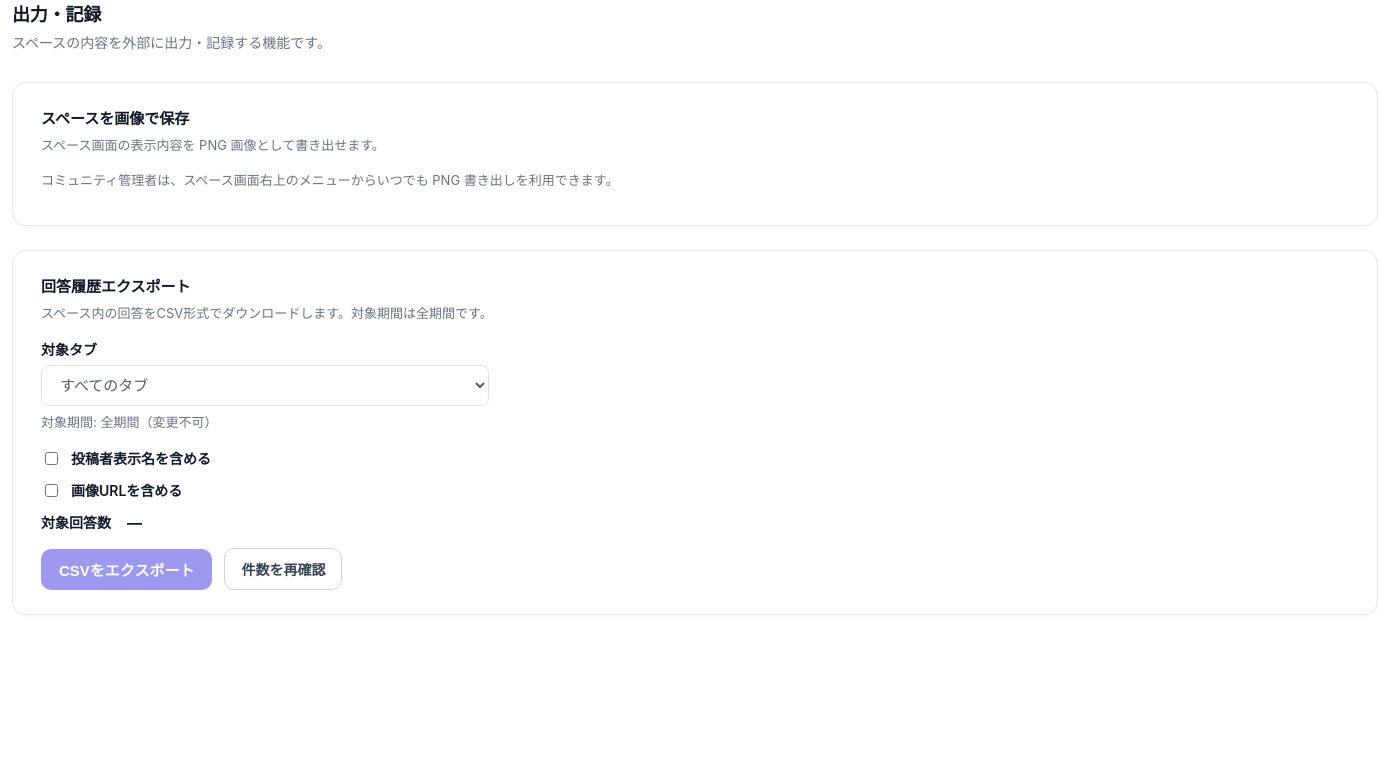
Test: ExportRecordTab › shows opt-in warnings when toggles are enabled
Click the checkbox labelled "投稿者表示名を含める" at (52, 458), box [45,452,58,464]
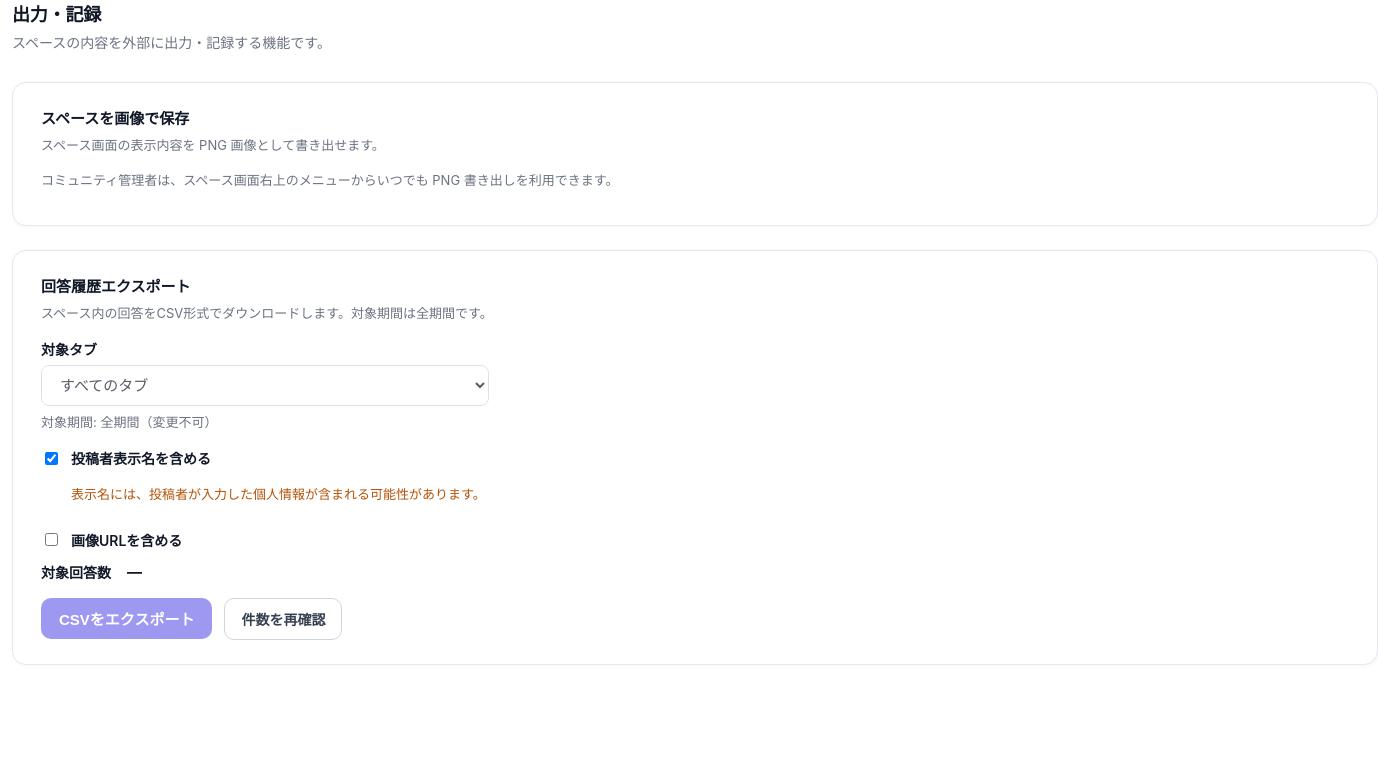
Click the checkbox labelled "画像URLを含める" at (52, 540), box [45,533,58,546]
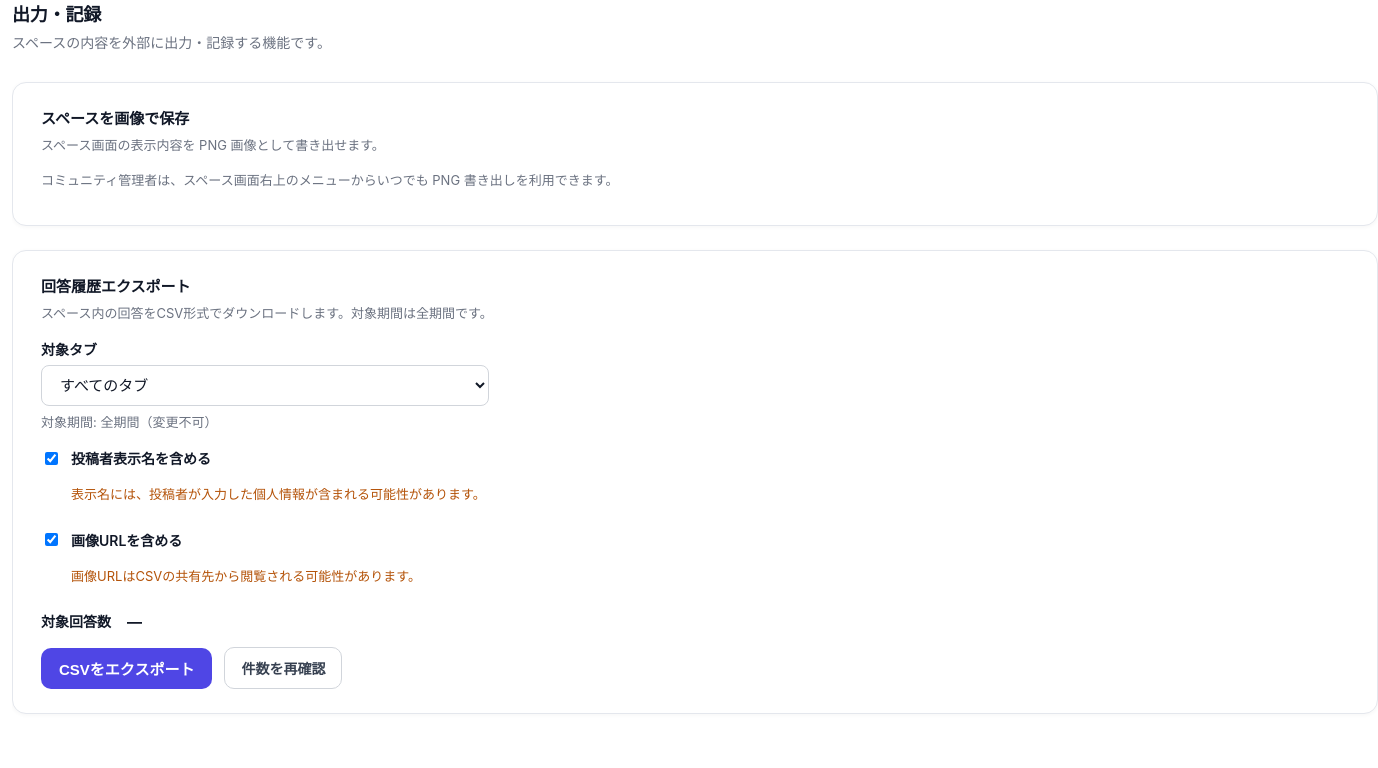
Expected: the text "表示名には、投稿者が入力した個人情報が含まれる可能性があります。" is shown, [71,485,486,505]
Expected: the text "画像URLはCSVの共有先から閲覧される可能性があります。" is shown, [71,567,421,586]
